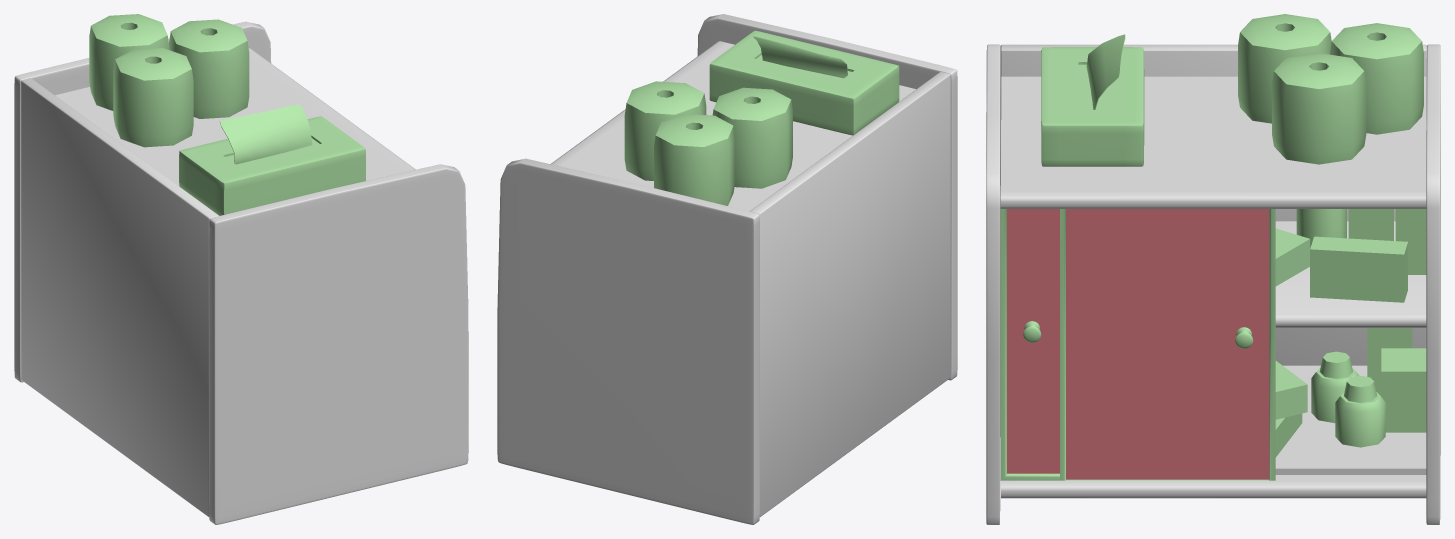
File: Medicinal Cabinet.fbx
3 views of the same model, side by side, from view 1: azimuth 30°, elevation 25°; view 2: azimuth 150°, elevation 25°; view 3: azimuth 270°, elevation 25° (orthographic). The views are drawn at different scales.
Visible parts, largest first — view 1: Cabinet_Body, Medicinal_Props.020; view 2: Cabinet_Body, Medicinal_Props.020; view 3: Cabinet_Body, Cabinet_Doors, Medicinal_Props.020.
Boxes of the visible parts, x1=… form: Cabinet_Body: x1=14, y1=21, x2=468, y2=524; Medicinal_Props.020: x1=89, y1=14, x2=365, y2=215; Cabinet_Body: x1=497, y1=14, x2=957, y2=524; Medicinal_Props.020: x1=624, y1=30, x2=899, y2=205; Cabinet_Body: x1=986, y1=44, x2=1440, y2=524; Cabinet_Doors: x1=1000, y1=186, x2=1275, y2=480; Medicinal_Props.020: x1=1041, y1=14, x2=1426, y2=457.
Size of the model in its own units: 94.32 by 125 by 129.
